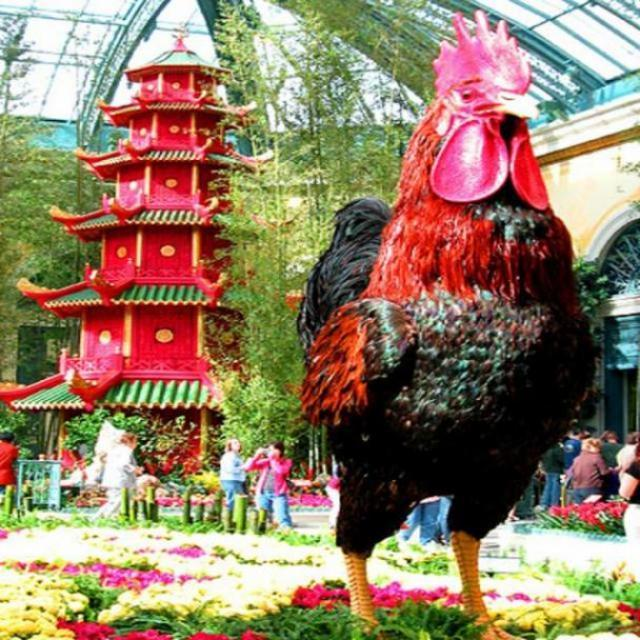Chicken: (293, 37, 594, 628)
